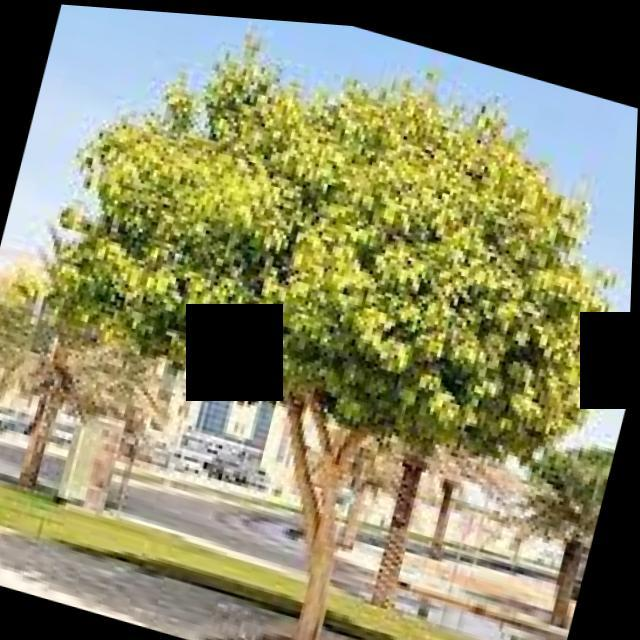Tree: (1, 1, 640, 640), (1, 248, 182, 520), (514, 422, 620, 627)
